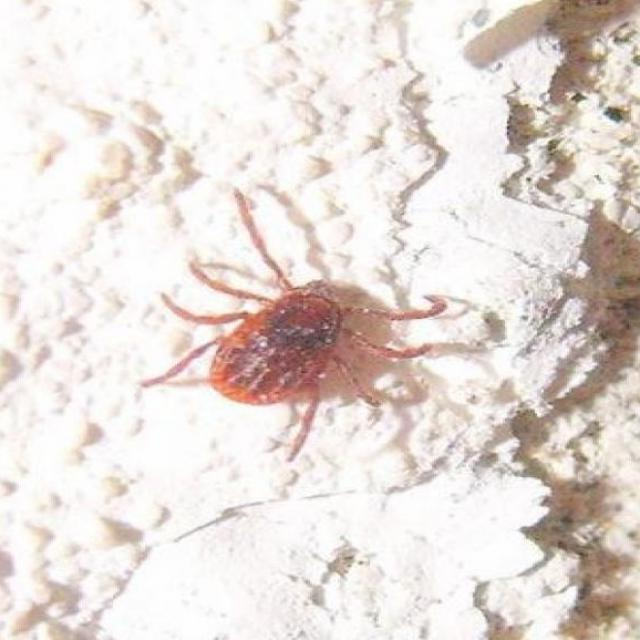Rhipicephalus Sanguineus-F: (141, 189, 447, 463)
